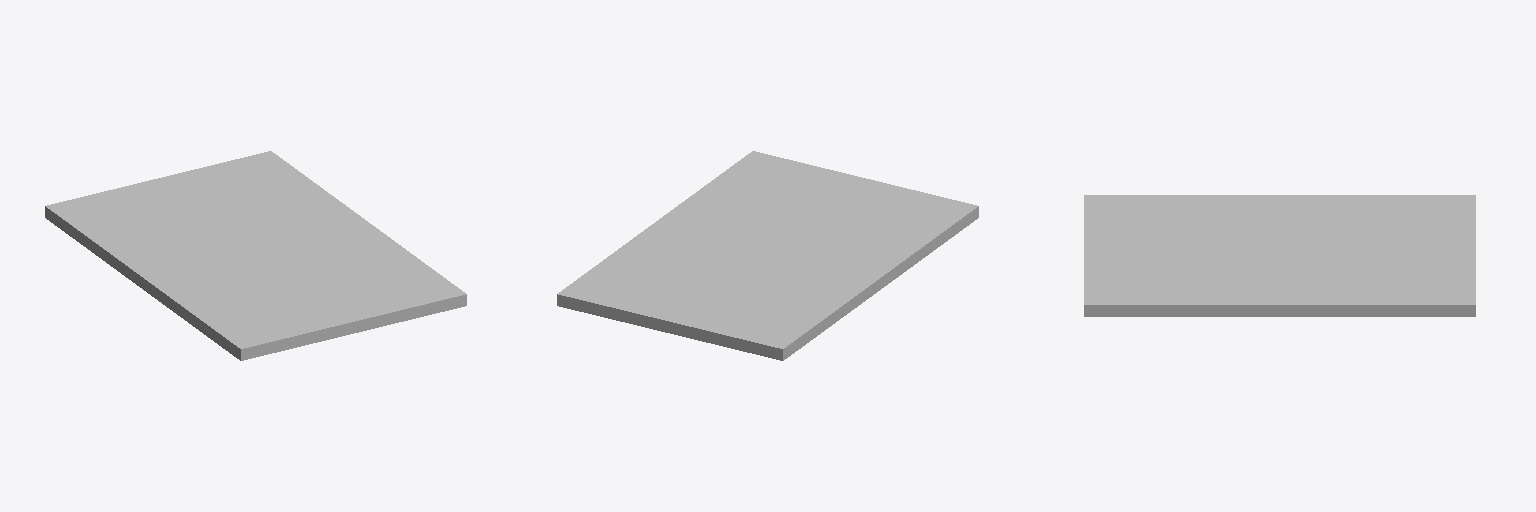
File: tapis.obj
3 views of the same model, side by side, from view 1: azimuth 30°, elevation 25°; view 2: azimuth 150°, elevation 25°; view 3: azimuth 270°, elevation 25° (orthographic).
Visible parts, largest first — view 1: tapis; view 2: tapis; view 3: tapis.
Part boxes in pixels (left/top/right/bottom): tapis: left=45, top=151, right=466, bottom=360; tapis: left=557, top=151, right=978, bottom=360; tapis: left=1084, top=195, right=1475, bottom=316.
Size of the model in its own units: 20 by 1 by 30.